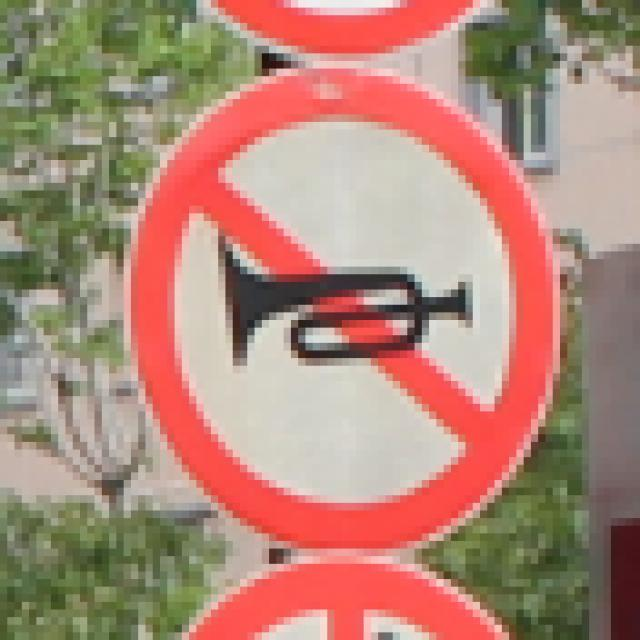No Horn: (126, 67, 564, 555)
